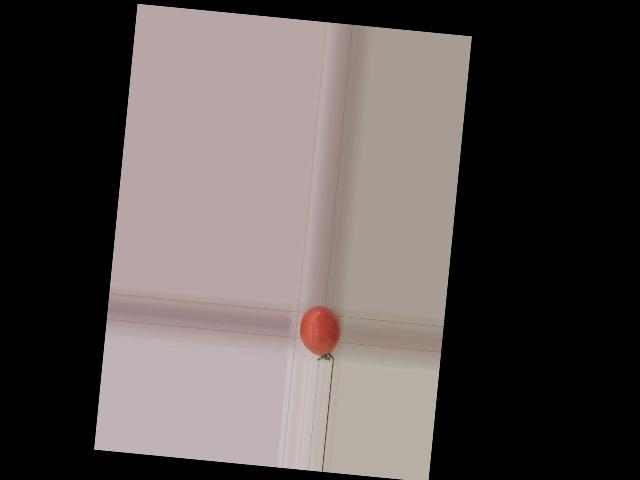tomato: (297, 304, 342, 357)
